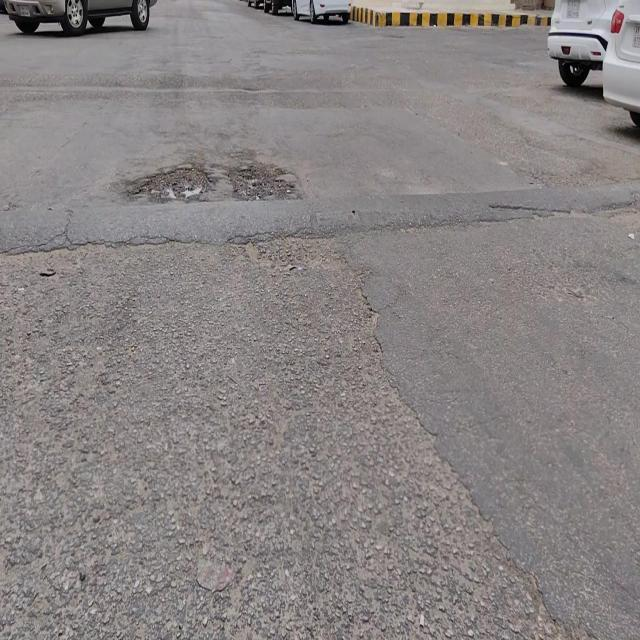Pothole: (225, 156, 295, 200), (133, 161, 211, 200)
